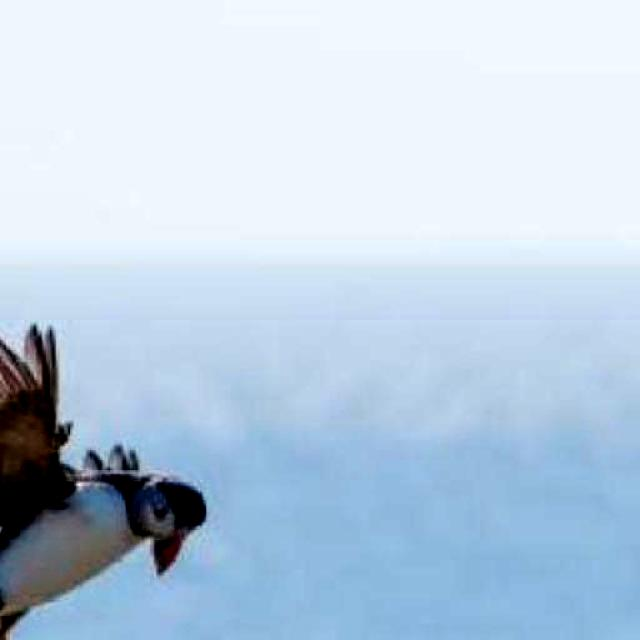airplane: (0, 322, 210, 640)
